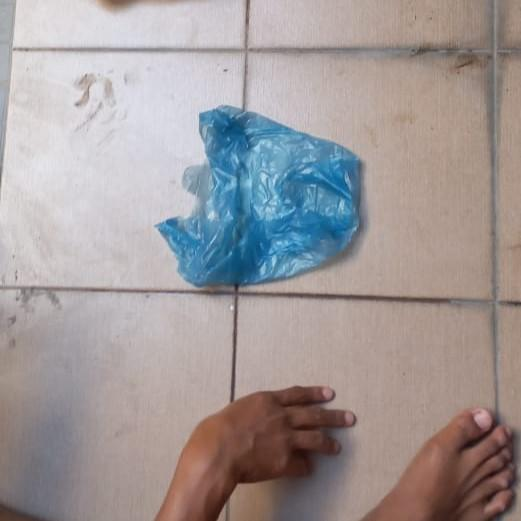Plastik: (152, 105, 361, 285)
